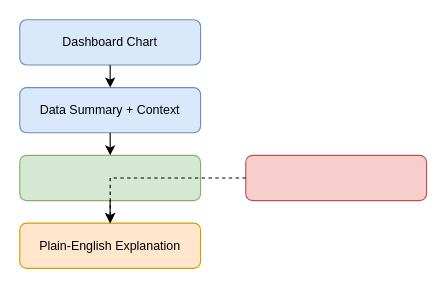
Some shapes in this 446 by 288 pixel diagram are drawn without their labels. Each missing label, with the box of its shape:
Fallback Text: (245, 154, 427, 201)
Gemini Prompt: (19, 154, 201, 201)
